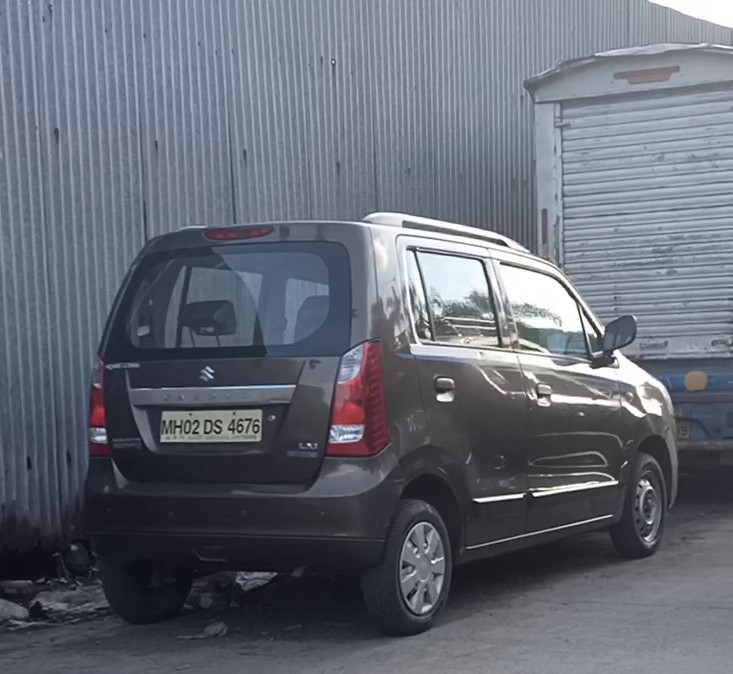MH02DS4676: (158, 409, 263, 445)
